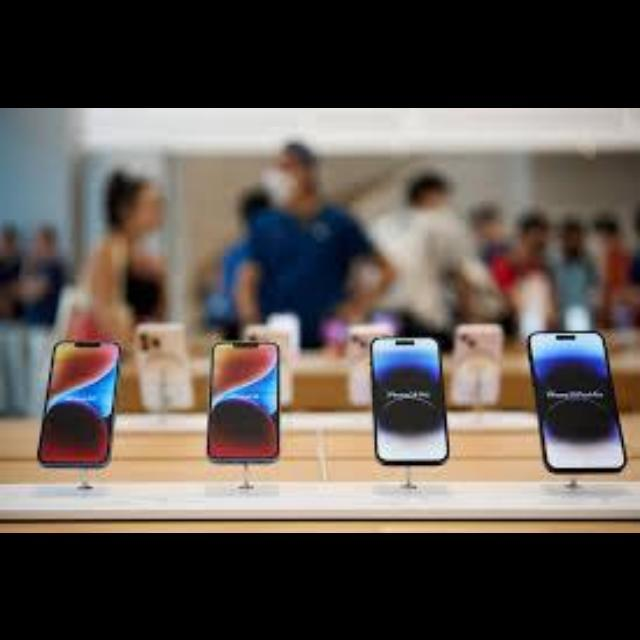Phone: (527, 328, 627, 472), (38, 338, 120, 468), (370, 335, 450, 465), (207, 342, 281, 464)
